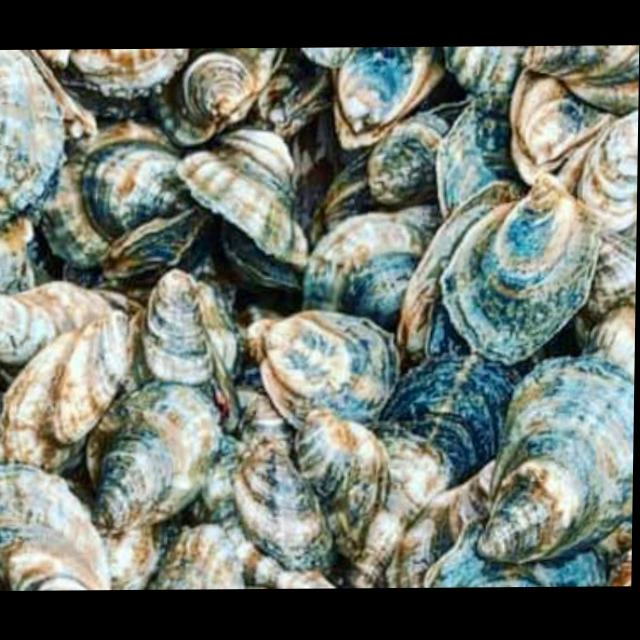Oyster-Closed: (439, 170, 602, 361), (397, 182, 512, 355), (262, 310, 401, 432), (302, 211, 425, 333), (0, 463, 113, 590), (149, 47, 288, 145), (424, 514, 609, 587), (511, 66, 620, 186), (435, 91, 531, 224), (0, 331, 88, 466), (336, 46, 447, 149), (367, 113, 450, 204), (194, 275, 244, 382)
Oyster-Indeterminate: (347, 349, 528, 588), (478, 355, 634, 563), (37, 118, 196, 267), (185, 434, 335, 588), (93, 381, 222, 529), (179, 129, 310, 269), (386, 459, 494, 587), (299, 411, 391, 559), (235, 440, 336, 566), (0, 49, 66, 225), (51, 315, 128, 443), (71, 484, 164, 589), (0, 280, 113, 364), (104, 203, 210, 284), (145, 267, 214, 385), (525, 44, 639, 112), (578, 112, 638, 236), (57, 48, 192, 96), (325, 148, 404, 230), (151, 524, 247, 589), (221, 218, 302, 291), (239, 395, 302, 471), (444, 45, 528, 93)
